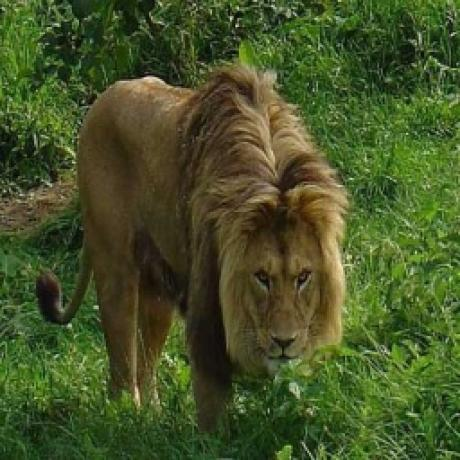Lion: (40, 67, 348, 431)
